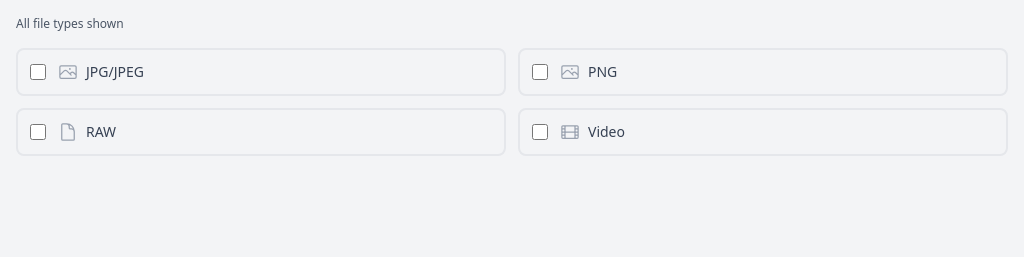
Test case: FileTypeFilter › File Type Selection › allows deselecting all types
# Select two
Click the checkbox named "select file type jpg". click: (38, 72)
box: [30, 64, 46, 80]
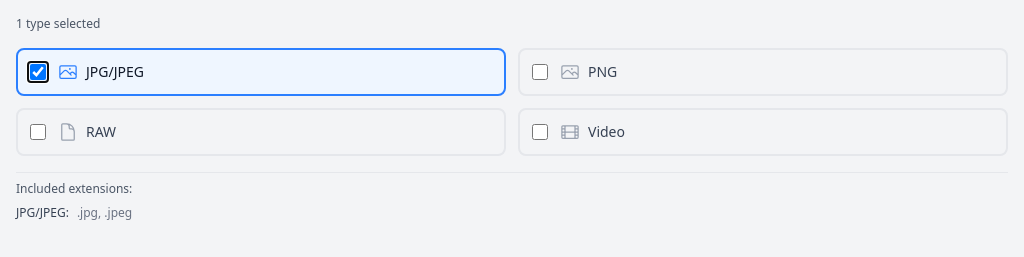
Click the checkbox named "select file type png". click: (540, 72)
box: [532, 64, 548, 80]
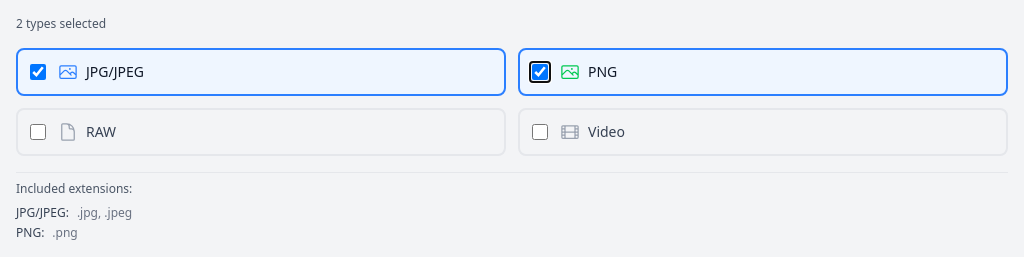
# Deselect both
Click the checkbox named "select file type jpg". click: (38, 72)
box: [30, 64, 46, 80]
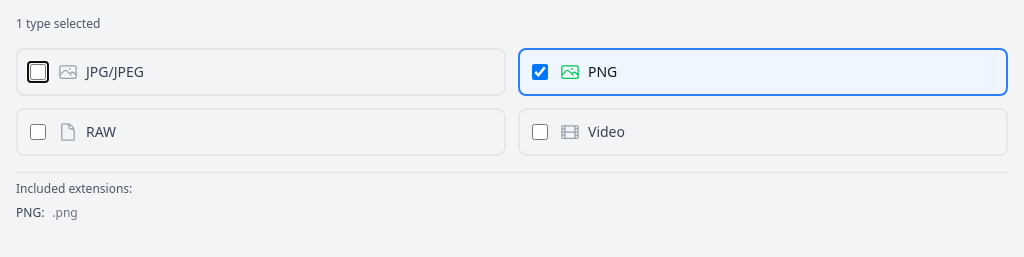
Click the checkbox named "select file type png". click: (540, 72)
box: [532, 64, 548, 80]
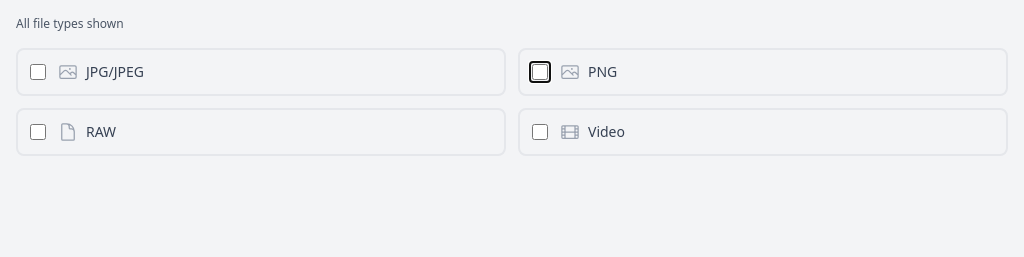
Result: the checkbox named "select file type jpg" is not checked at [30, 64, 46, 80]
Result: the checkbox named "select file type png" is not checked at [532, 64, 548, 80]
Result: the text "All file types shown" is shown at [16, 15, 124, 32]
